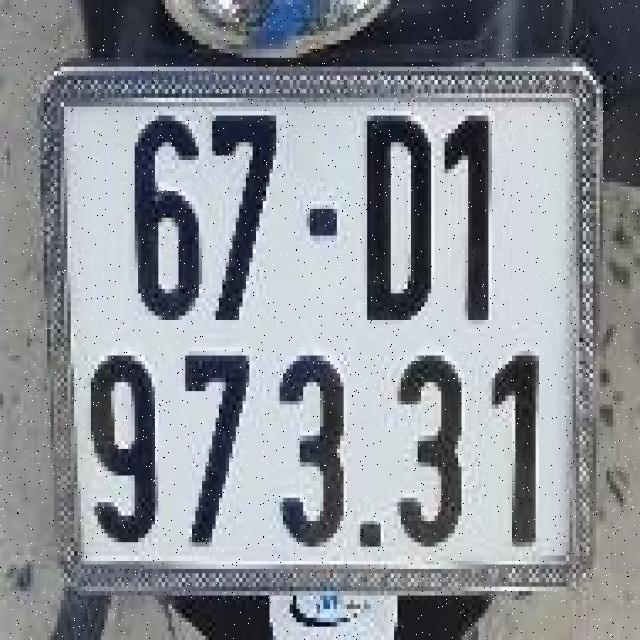1: (482, 336, 552, 566), (442, 109, 506, 327)
3: (266, 344, 354, 562), (388, 342, 468, 556)
6: (115, 104, 202, 336)
7: (172, 329, 256, 560), (199, 109, 283, 331)
9: (78, 344, 168, 558)
D: (354, 102, 438, 338)
